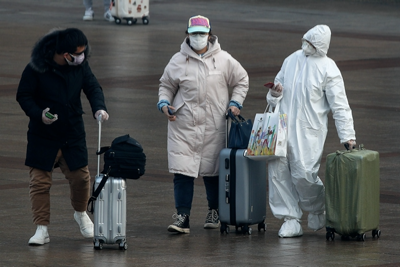with_mask: (188, 31, 208, 51), (68, 48, 85, 68), (300, 39, 316, 56)
